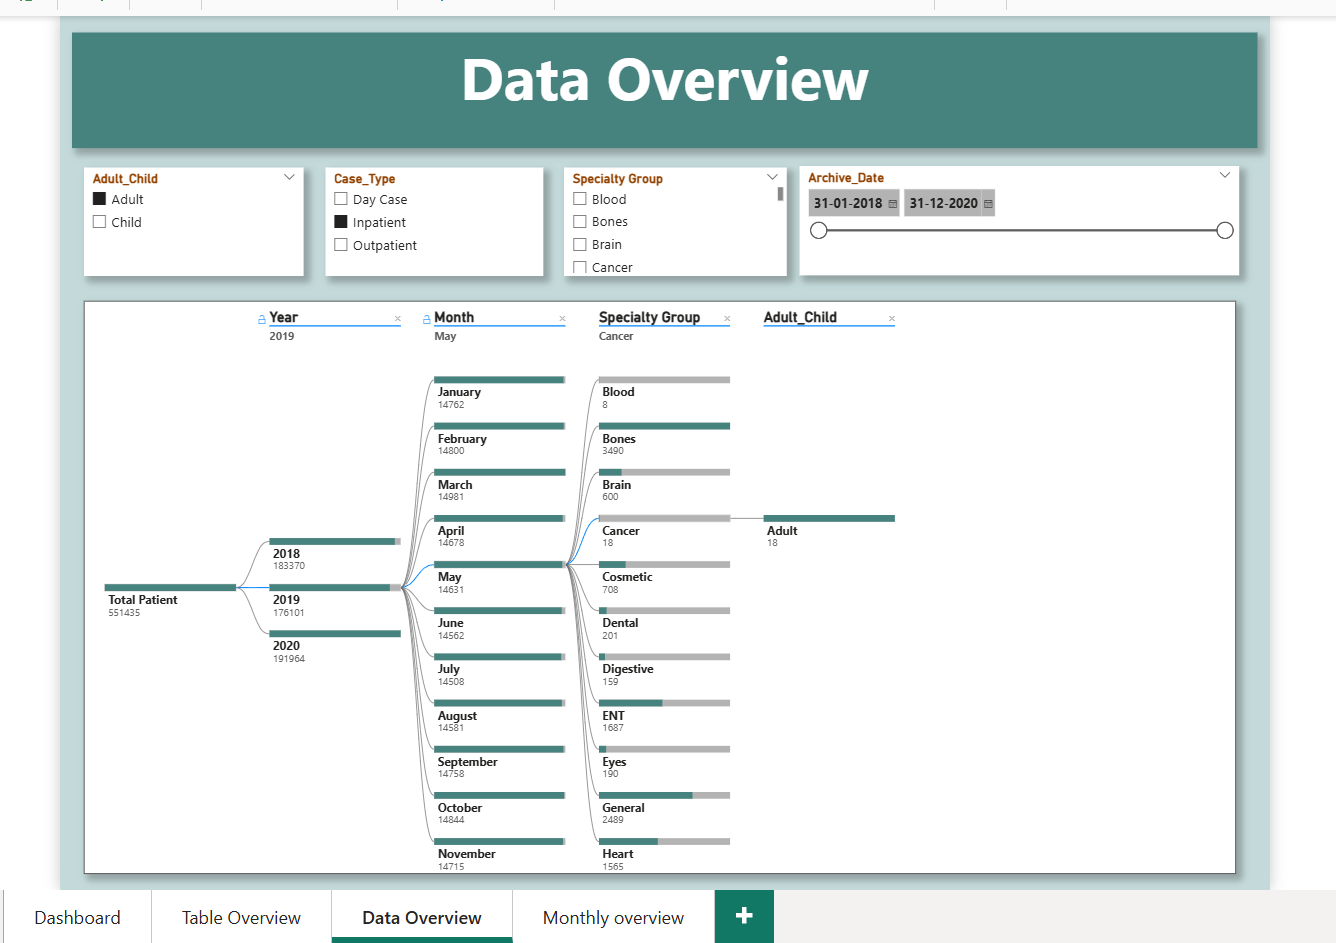

The dashboard page shown, as its layout file describes it:
{"tool":"powerbi","page":{"name":"Data Overview","canvas":[1800,1300],"ordinal":2},"visuals":[{"type":"textbox","box":[17.4,23.9,1763,171.7],"z":0},{"type":"decompositionTreeVisual","fields":{"Analyze":["Measure Table.Total Patient"],"ExplainBy":["Hospital Data.Archive_Date.Variation.Date Hierarchy.Year","Hospital Data.Archive_Date.Variation.Date Hierarchy.Month","Mapping_Specialty.Specialty Group","Hospital Data.Adult_Child"]},"box":[36.4,425,1713.6,852.3],"z":1000},{"type":"group","id":"g1","title":"Group 3","box":[35.7,223.1,1718,162.9],"z":3000},{"type":"slicer","fields":{"Values":["Hospital Data.Adult_Child"]},"box":[35.7,224.9,326.5,161.1],"z":6000,"group":"g1"},{"type":"slicer","fields":{"Values":["Hospital Data.Case_Type"]},"box":[394.2,224.9,324.3,161.1],"z":7000,"group":"g1"},{"type":"slicer","fields":{"Values":["Mapping_Specialty.Specialty Group"]},"box":[750.4,224.9,331.1,161.1],"z":8000,"group":"g1"},{"type":"slicer","fields":{"Values":["Hospital Data.Archive_Date"]},"box":[1099.8,223.1,653.9,162.7],"z":9000,"group":"g1"}]}

Visuals, with their boxes on the page's 1800x1300 design canvas (x1, y1, x2, y2). These are canvas units, not pixel positions in the 1336x943 screenshot, which may show the page scaled, cropped or inside an application window:
textbox: (17,24,1780,196)
decompositionTreeVisual - Measure Table.Total Patient x Hospital Data.Archive_Date.Variation.Date Hierarchy.Year: (36,425,1750,1277)
"Group 3" group: (36,223,1754,386)
slicer - Hospital Data.Adult_Child: (36,225,362,386)
slicer - Hospital Data.Case_Type: (394,225,718,386)
slicer - Mapping_Specialty.Specialty Group: (750,225,1082,386)
slicer - Hospital Data.Archive_Date: (1100,223,1754,386)
